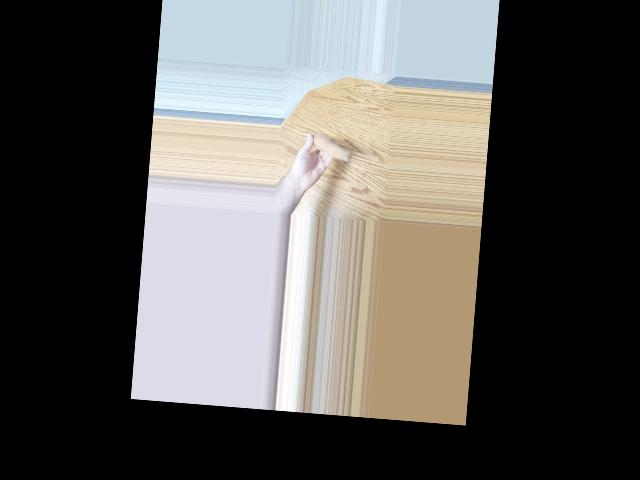sweet_potato: (307, 132, 351, 163)
